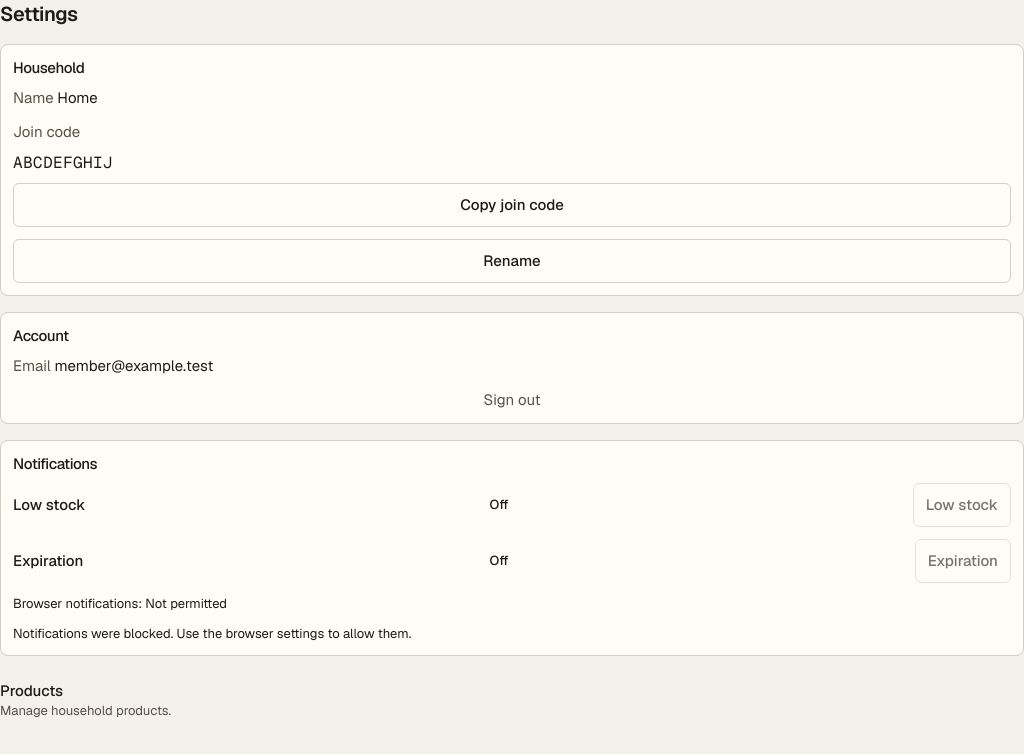
Test: HouseholdSettingsScreen › renames and shows Saved.
Check: the text "Home" is shown, box [57,88,98,107]
Click the button "Rename". click: (512, 261)
box: [13,239,1011,283]
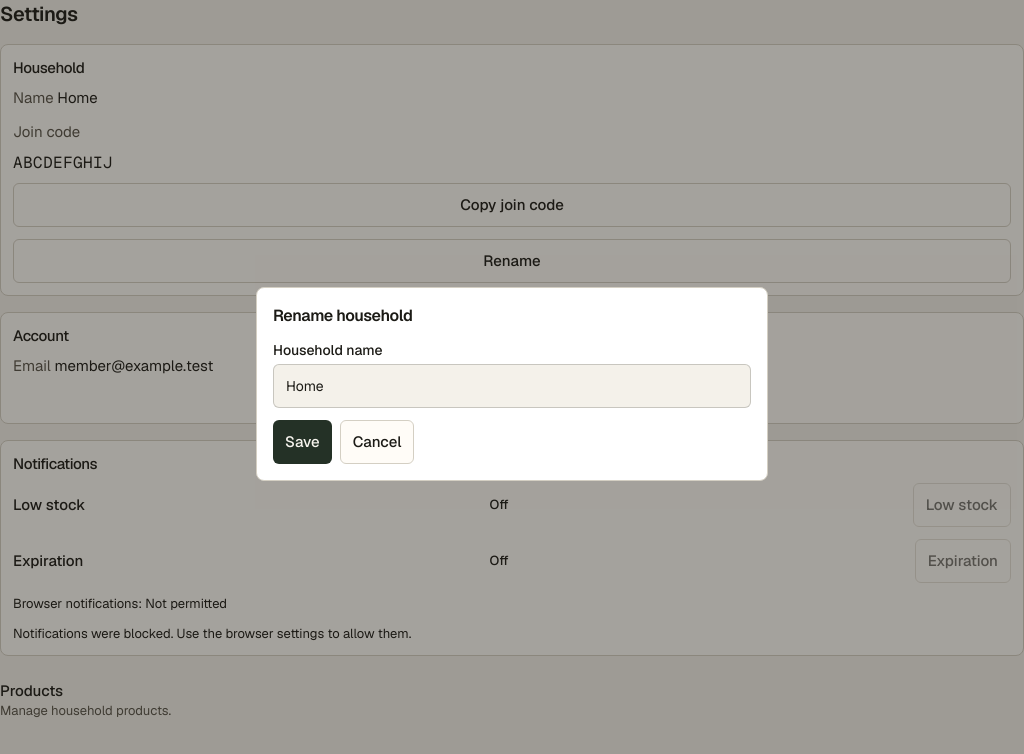
Replace the text in the field labelled "Household name" with "New Home". click: (512, 386)
box: [273,364,751,408]
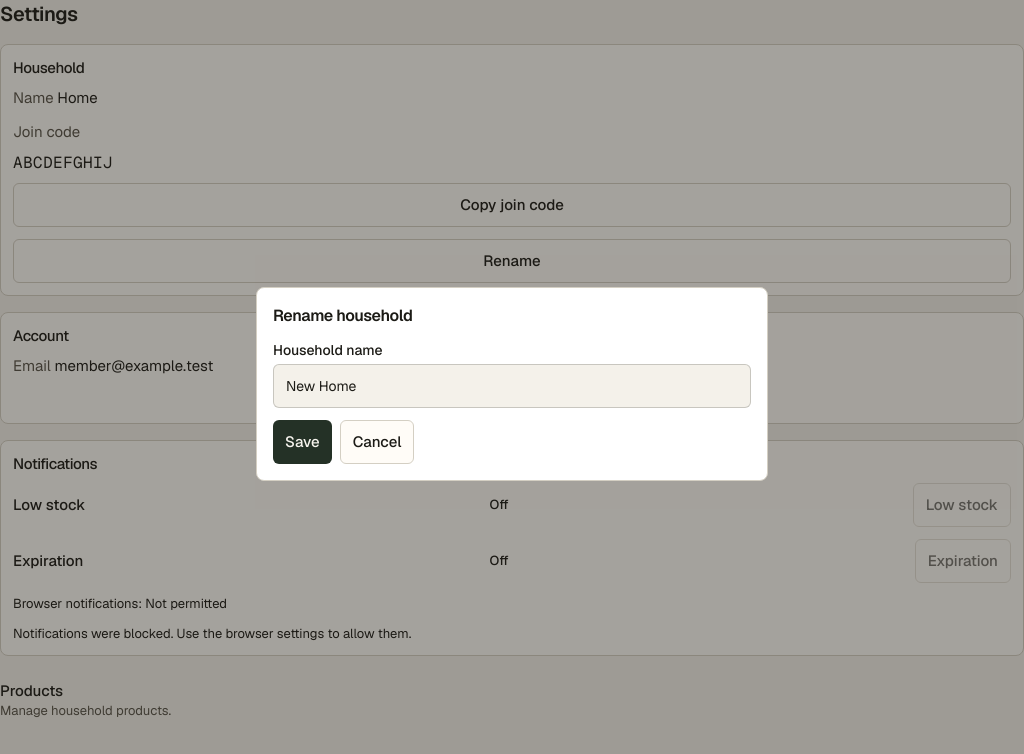
Submit the form "Save", box [273,340,751,464]
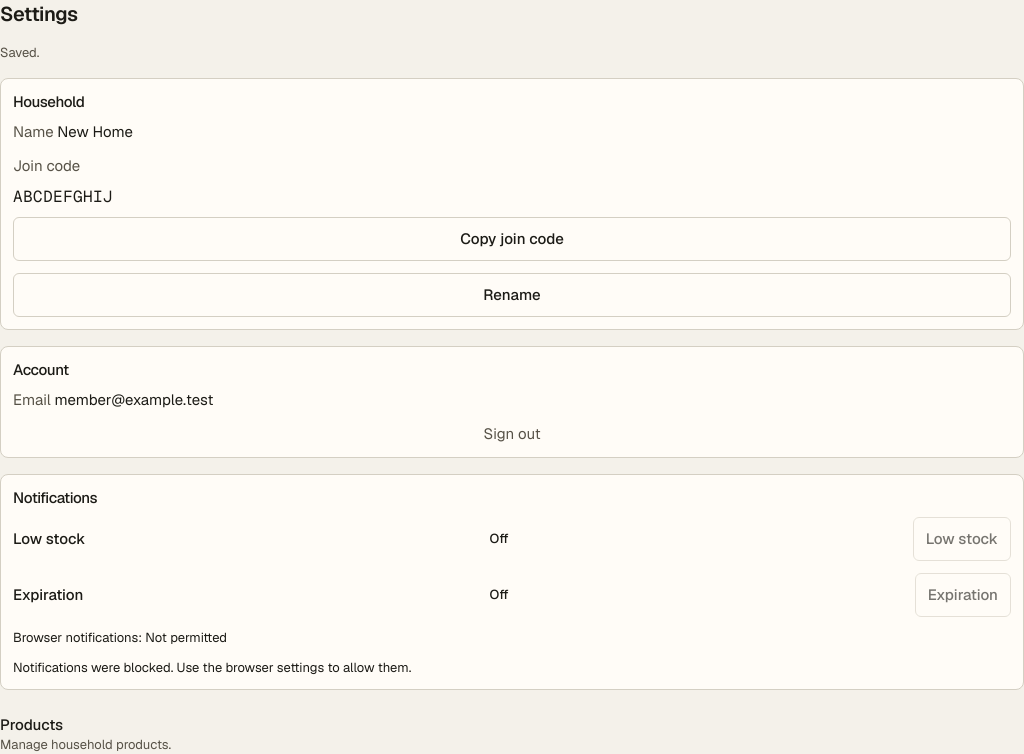
Check: the dialog is gone
Check: the message reads "Saved.", box [0,44,40,61]
Check: the text "New Home" is shown, box [57,122,133,141]
